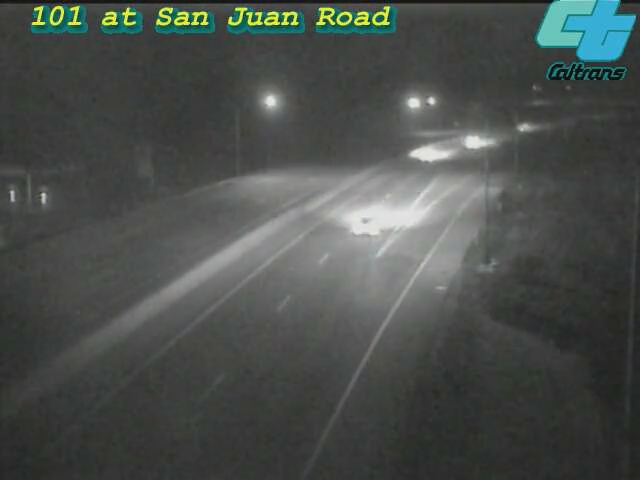vehicle: (326, 186, 406, 266), (503, 102, 553, 152), (446, 116, 496, 166), (405, 129, 455, 179)
